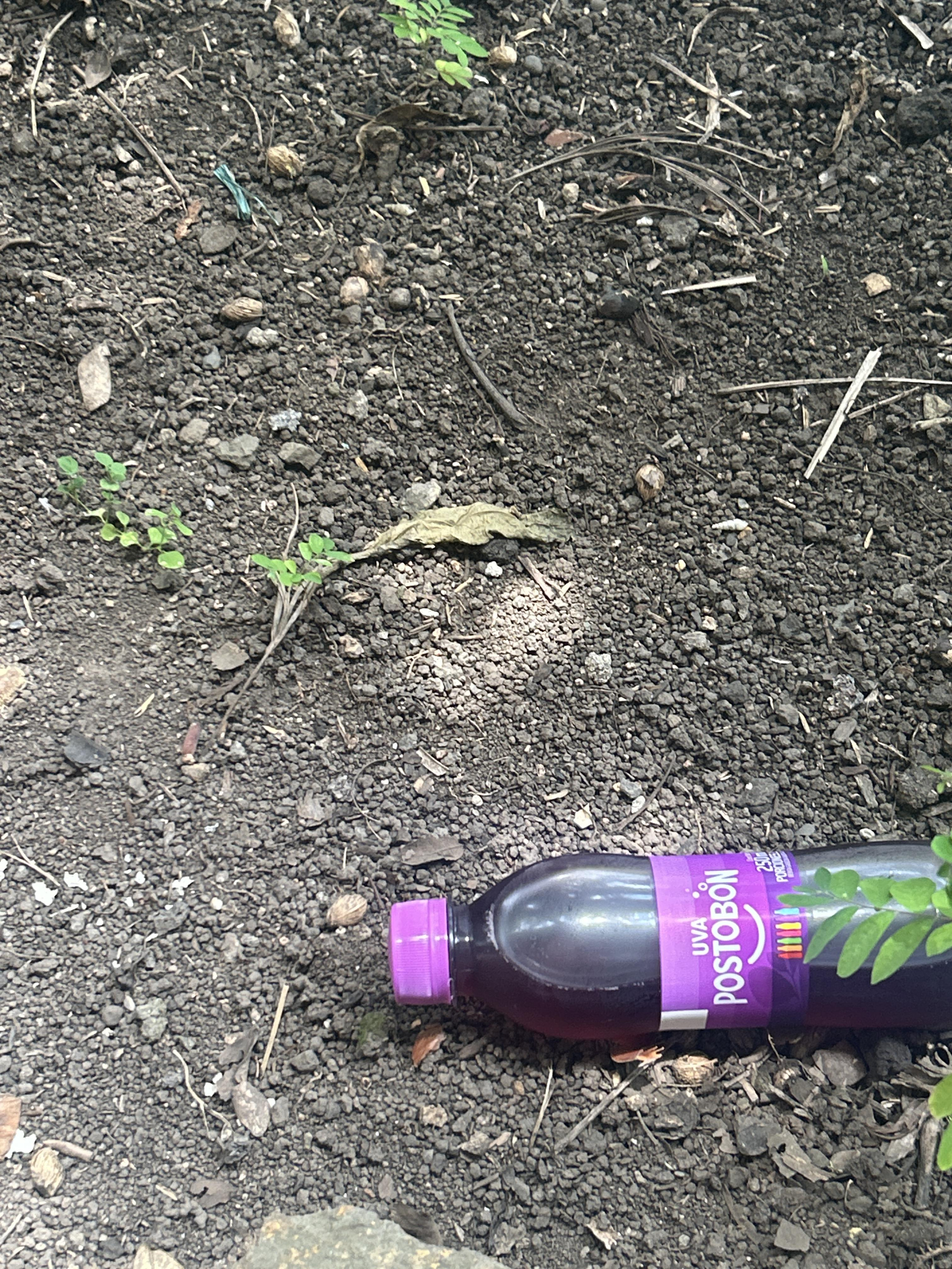uva: (389, 842, 952, 1040)
